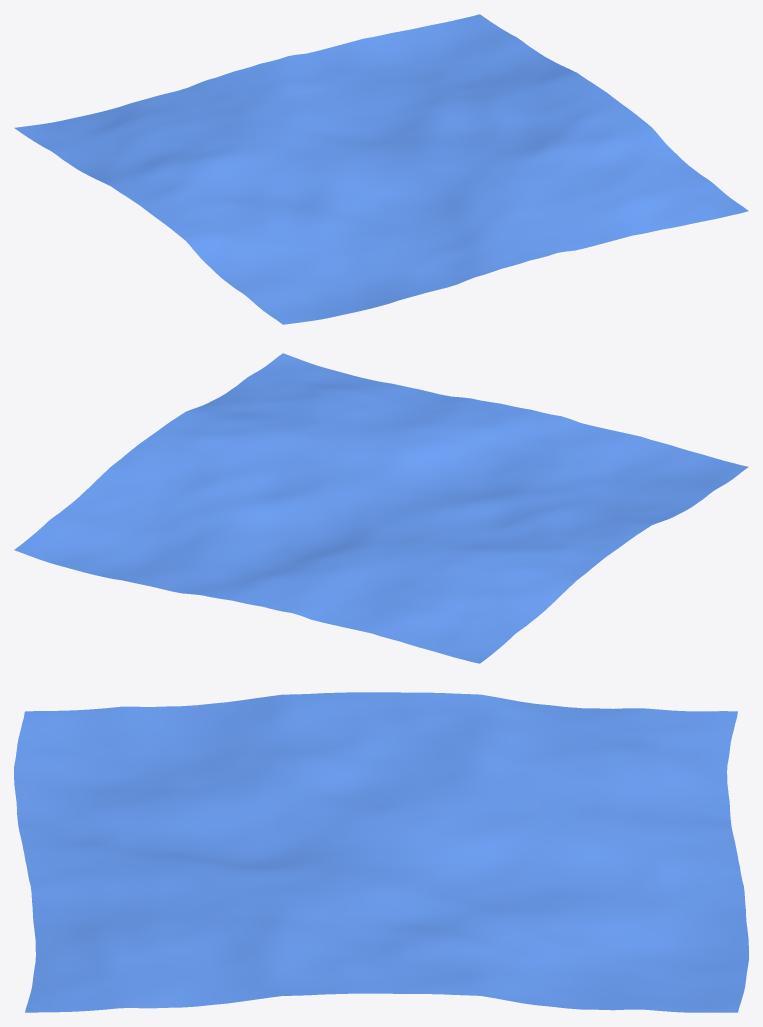
3 renders of one model, top to bottom at view 1: azimuth 30°, elevation 25°; view 2: azimuth 150°, elevation 25°; view 3: azimuth 270°, elevation 25°, orthographic. The views are drawn at different scales.
Visible parts, largest first — view 1: Cube; view 2: Cube; view 3: Cube.
Boxes of the visible parts, x1=… form: Cube: x1=14, y1=14, x2=748, y2=324; Cube: x1=14, y1=353, x2=748, y2=663; Cube: x1=14, y1=692, x2=748, y2=1012.
Bounding box in the file's own units: 6294 × 271 × 6444.
